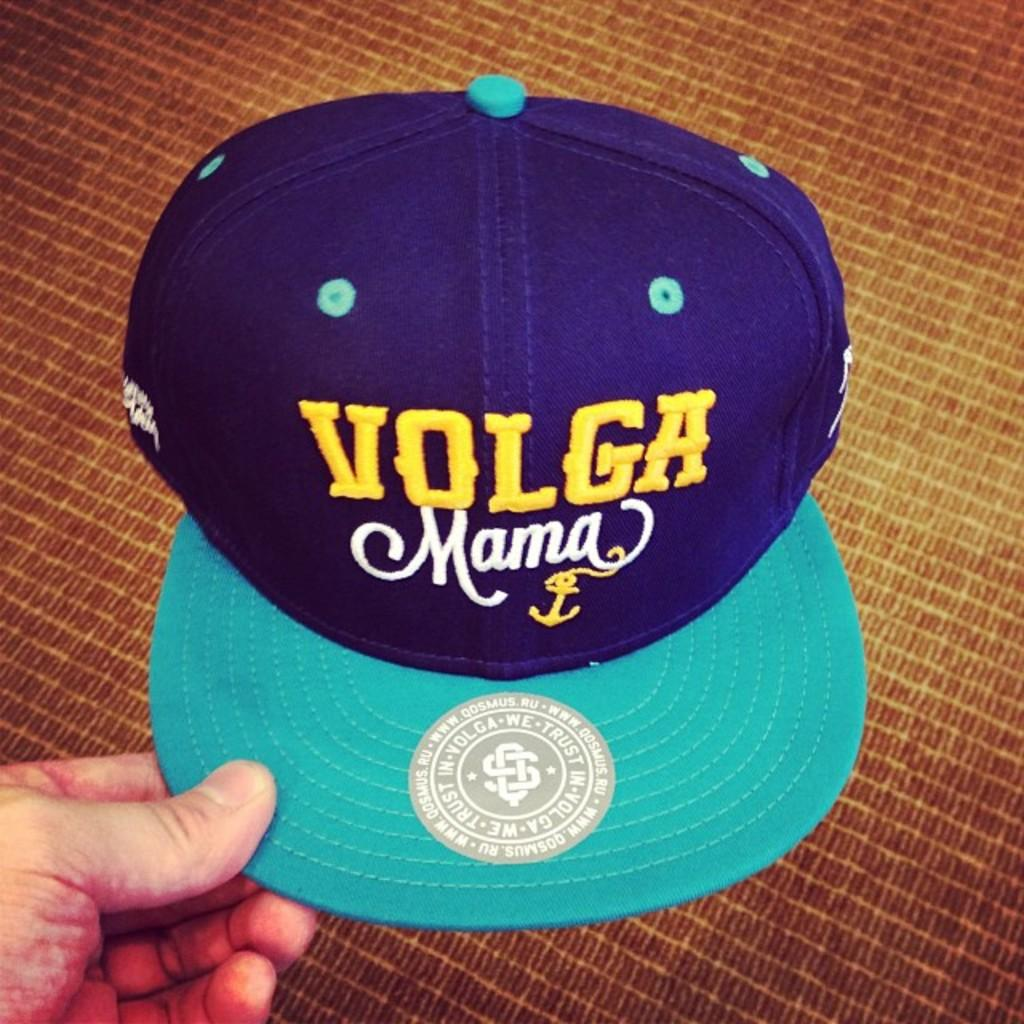Hat: (121, 74, 868, 928)
